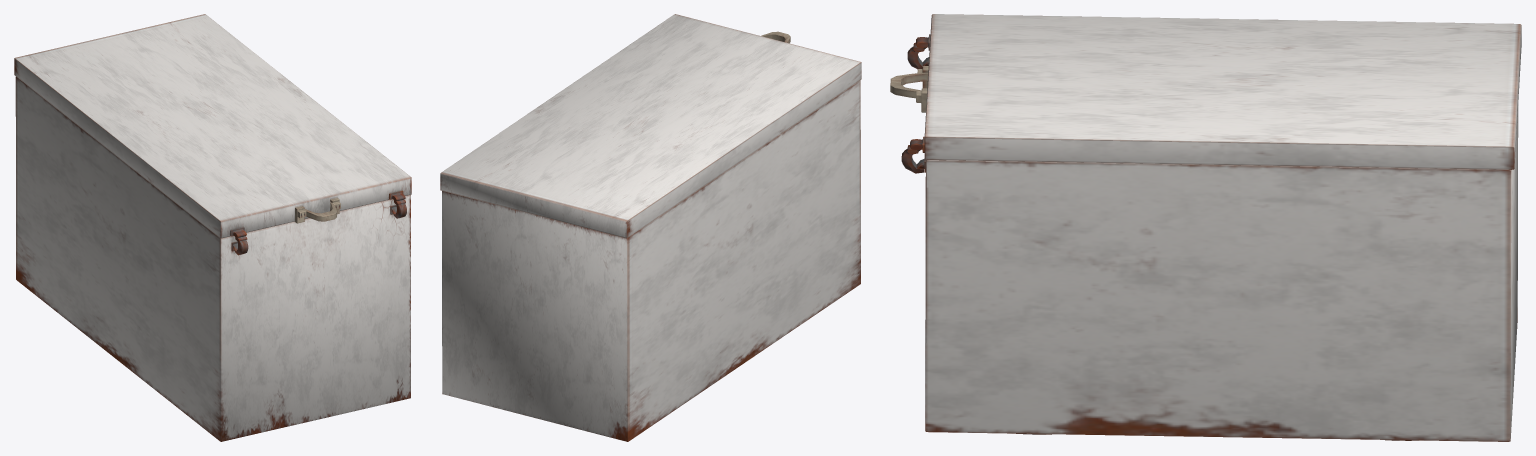
File: refrigerador.glb
3 views of the same model, side by side, from view 1: azimuth 30°, elevation 25°; view 2: azimuth 150°, elevation 25°; view 3: azimuth 270°, elevation 25° (orthographic). The views are drawn at different scales.
Parts seen in each view (by area): view 1: Fridge_Big_LP__0; view 2: Fridge_Big_LP__0; view 3: Fridge_Big_LP__0.
Part boxes in pixels (x1,y1,x2,y2): Fridge_Big_LP__0: (14,14,411,441); Fridge_Big_LP__0: (440,14,861,441); Fridge_Big_LP__0: (890,14,1521,441).
Size of the model in its own units: 0.7917 by 0.85 by 1.6.
1 material, 1 textured.
